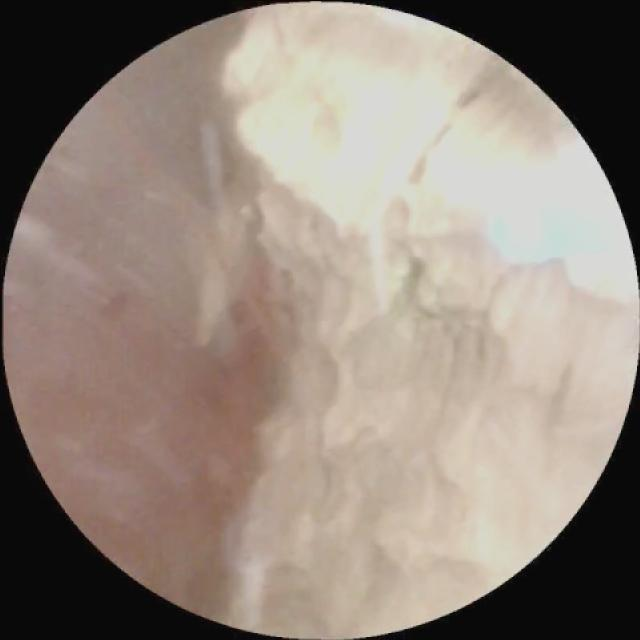stone: (222, 12, 626, 627), (196, 183, 251, 346)
